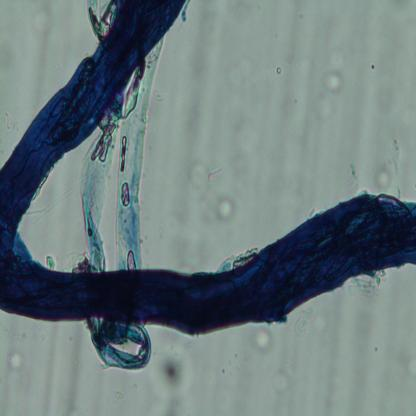Background material: (187, 152, 237, 218), (153, 347, 192, 393), (322, 71, 350, 100), (245, 328, 277, 352), (294, 306, 317, 338), (374, 162, 394, 194), (7, 352, 28, 377)
Cotton: (0, 0, 416, 369)
